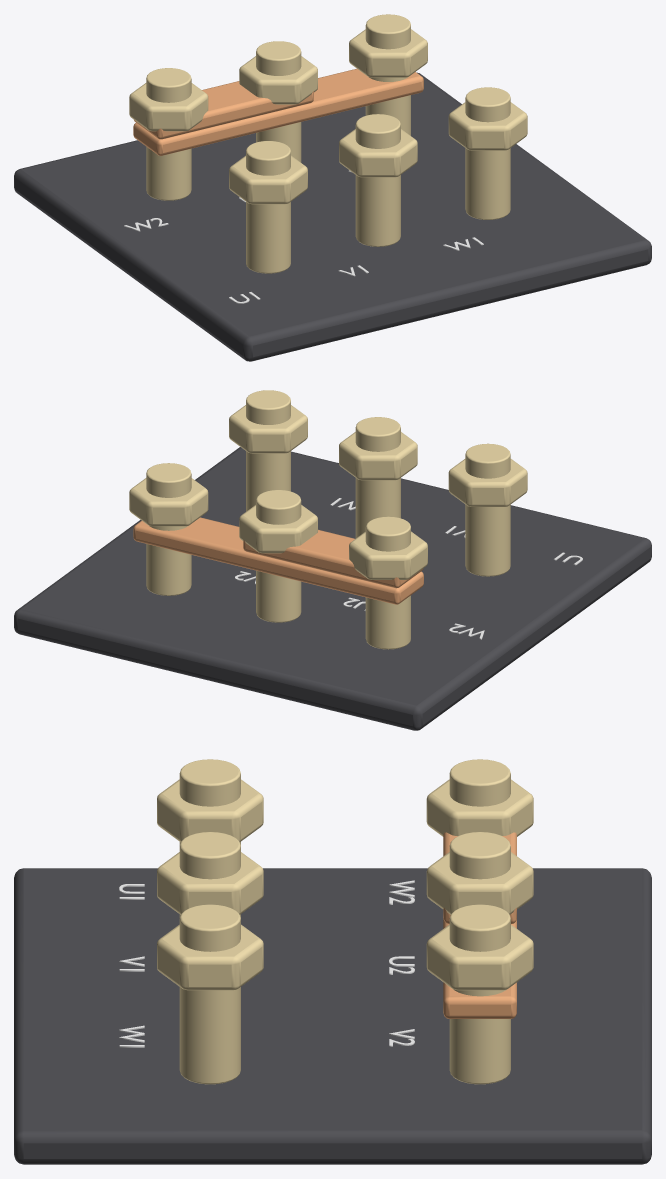
Rendered from motor_tbox_star.glb.
3 views of the same model, one above another, from view 1: azimuth 30°, elevation 25°; view 2: azimuth 150°, elevation 25°; view 3: azimuth 270°, elevation 25° (orthographic). The views are drawn at different scales.
Parts seen in each view (by area): view 1: terminal_box; view 2: terminal_box; view 3: terminal_box.
Part boxes in pixels (box(x1,y1,x2,y2)): terminal_box: box(14, 14, 651, 361); terminal_box: box(14, 390, 651, 730); terminal_box: box(14, 759, 651, 1164).
Bounding box in the file's own units: 0.052 × 0.017 × 0.052.
